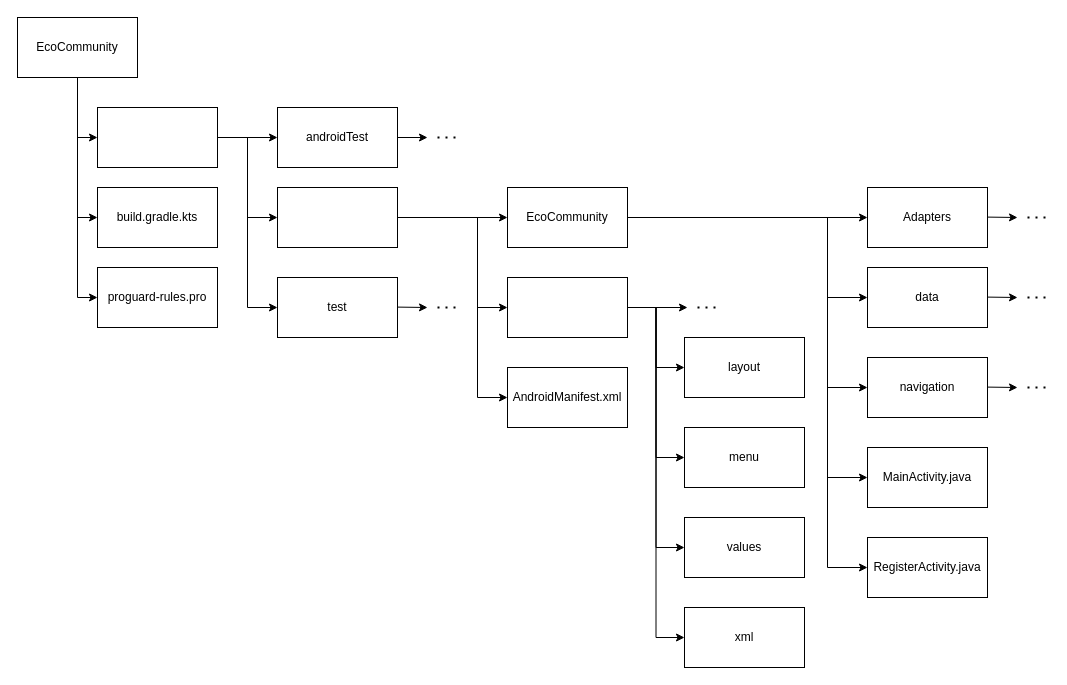
The diagram is 1067 pixels wide and 685 high, and some of its shapes have lost their labels. Here are the shapes that lost their labels. From the top down, the box of each, then its label:
(96, 106, 218, 168): src
(276, 186, 398, 248): main
(506, 276, 628, 338): res
